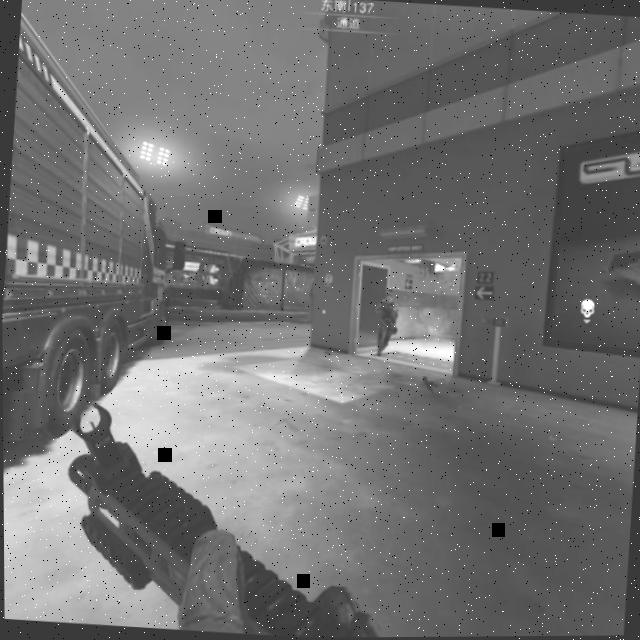MW2_body: (371, 291, 400, 358)
